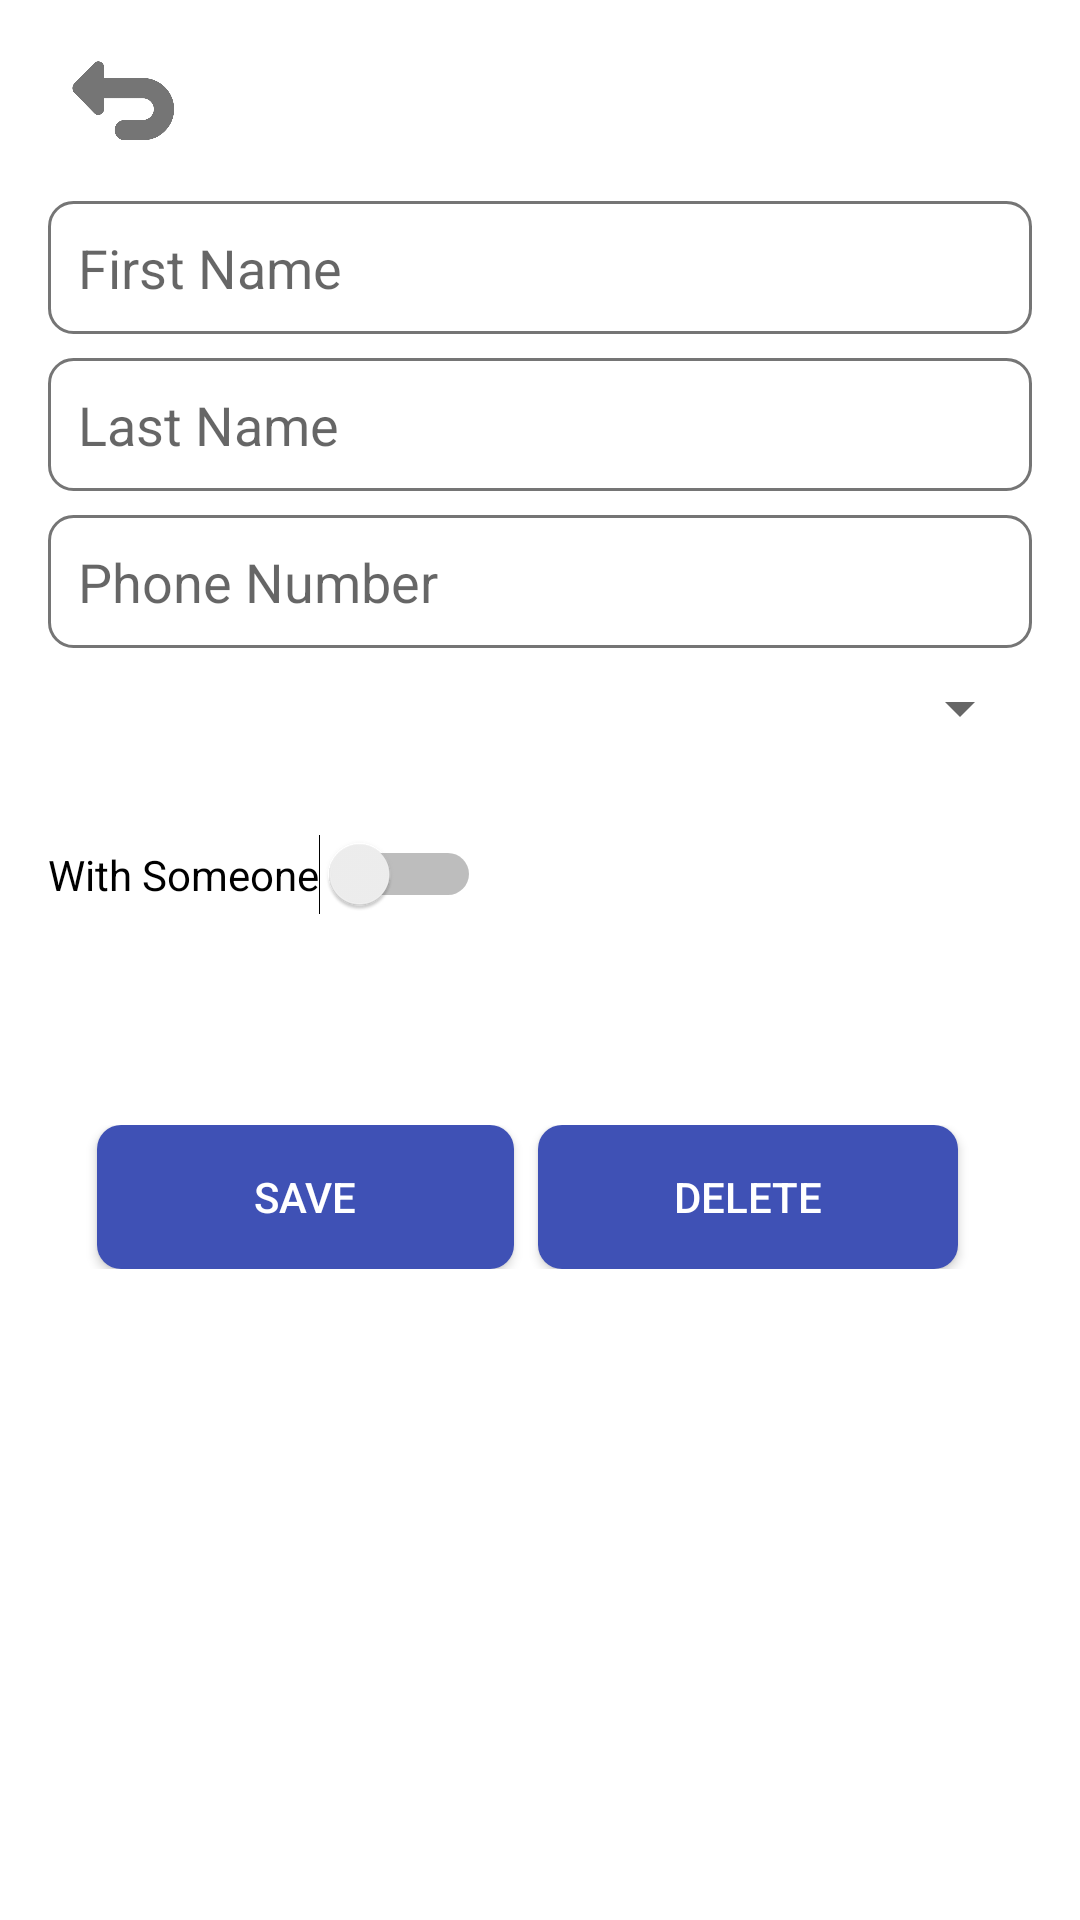

Named icons in this screenshot (1080*1920) and their centers, (x,y):
back arrow: (123,100)
